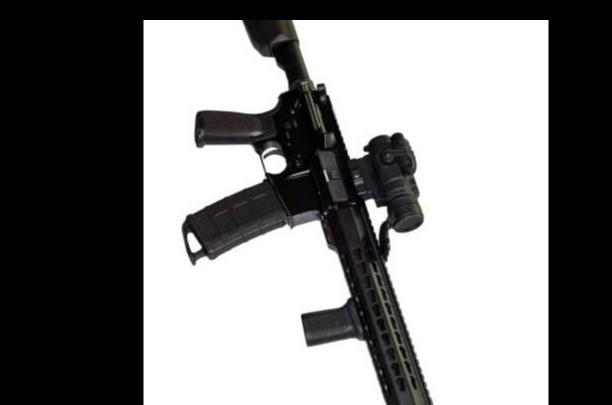larga: (181, 20, 434, 405)
